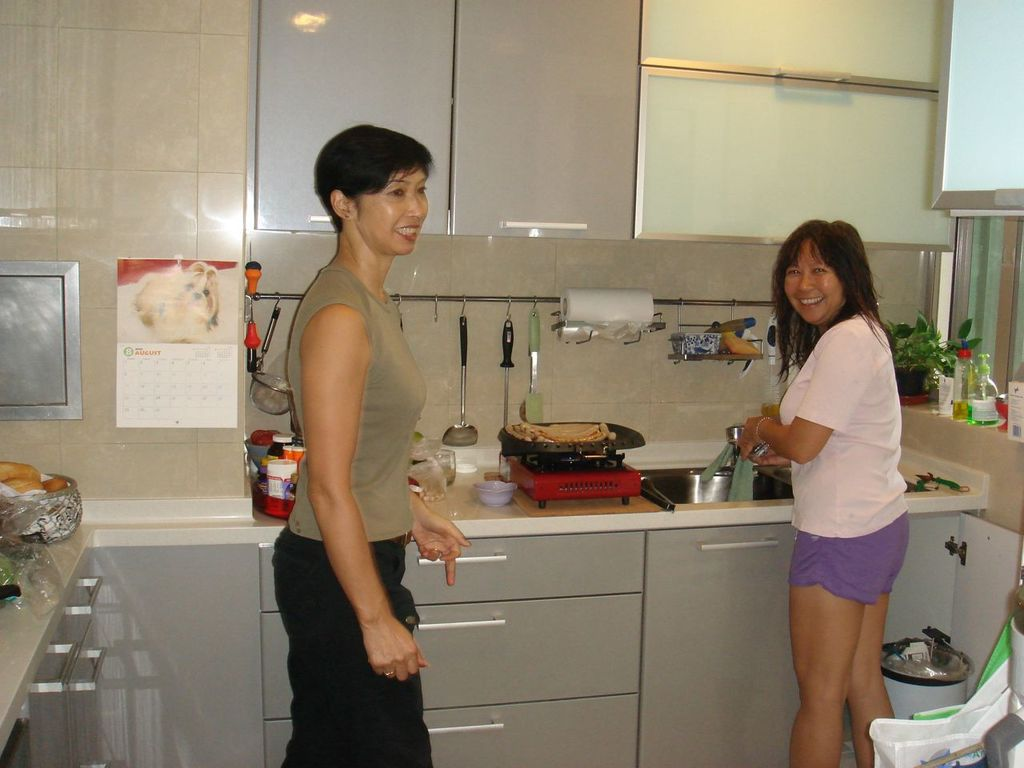Cabinetry: (270, 530, 630, 767)
